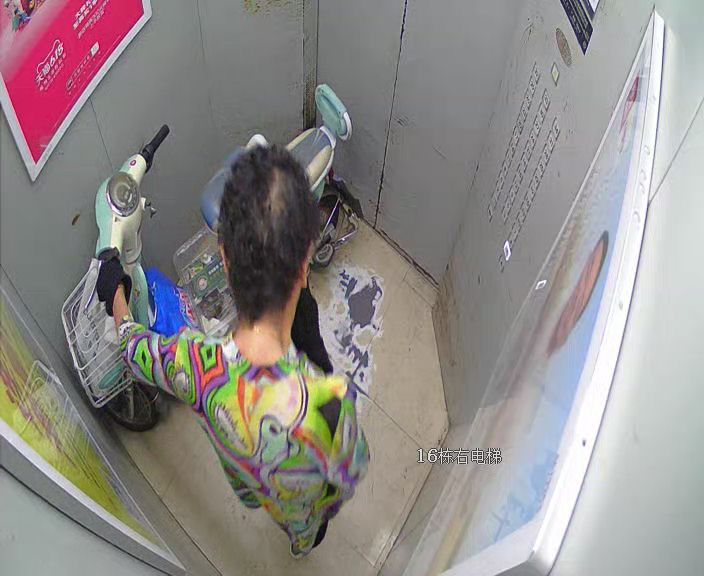Electric-bicycle: (66, 86, 353, 389)
